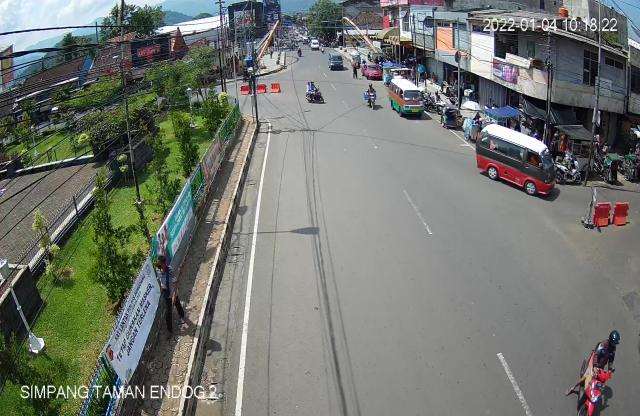Mobil: (474, 123, 556, 209), (387, 74, 424, 121)
Motor: (564, 327, 621, 416), (554, 151, 584, 189), (304, 78, 326, 108), (361, 83, 379, 116)
